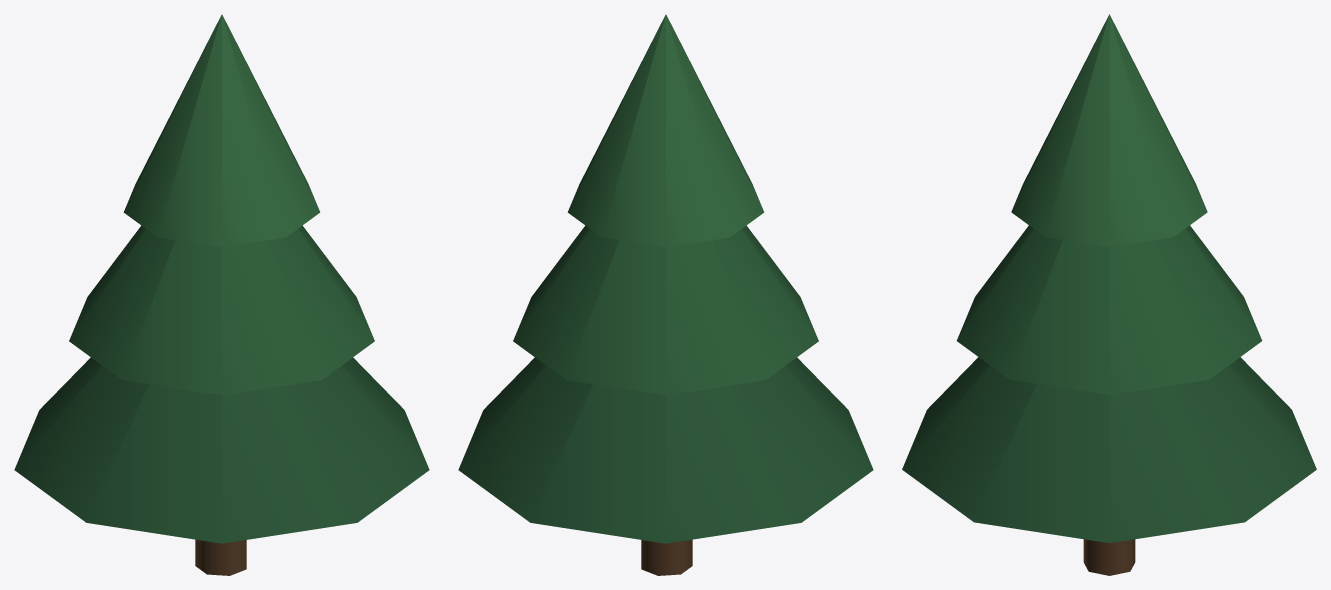
The model's file is pine.glb.
3 renders of one model, left to right at view 1: azimuth 30°, elevation 25°; view 2: azimuth 150°, elevation 25°; view 3: azimuth 270°, elevation 25°, orthographic.
Bounding box in the file's own units: 1.84 × 2.74 × 1.87.
